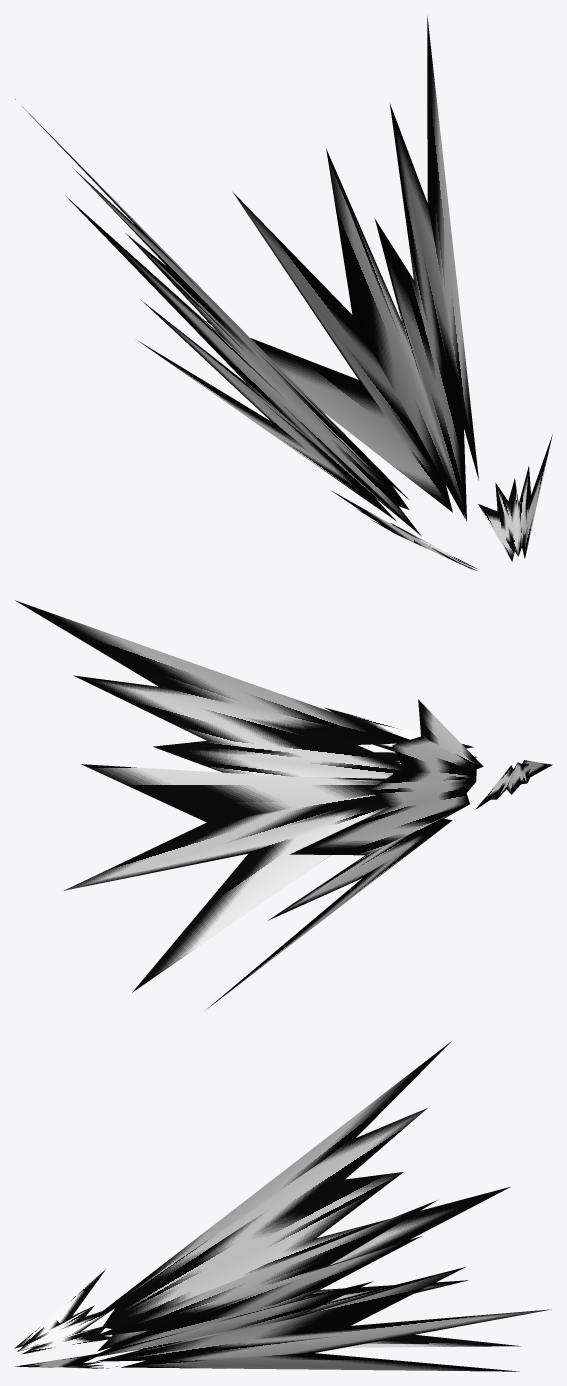
The model's file is EffCommonAttackSmoke.obj.
3 renders of one model, top to bottom at view 1: azimuth 30°, elevation 25°; view 2: azimuth 150°, elevation 25°; view 3: azimuth 270°, elevation 25°, orthographic. The views are drawn at different scales.
Parts seen in each view (by area): view 1: polygon0, polygon1; view 2: polygon0, polygon1; view 3: polygon0, polygon1.
Boxes of the visible parts, box(x1,y1,x2,y2) form: polygon0: box(15, 16, 478, 536); polygon1: box(330, 434, 552, 570); polygon0: box(15, 600, 483, 1009); polygon1: box(324, 707, 552, 809); polygon0: box(92, 1041, 551, 1371); polygon1: box(14, 1269, 117, 1368).
Bounding box in the file's own units: 20.2 × 15.01 × 30.08.
Materials: 2 (2 with a texture image).
